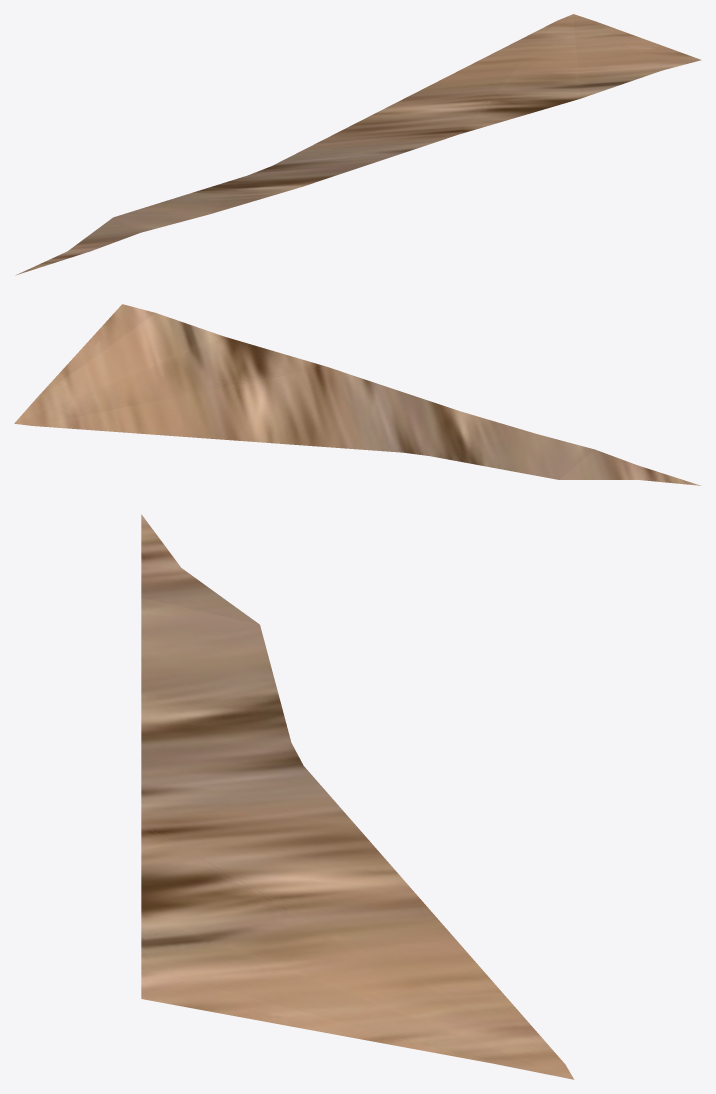
3 views of the same model, one above another, from view 1: azimuth 30°, elevation 25°; view 2: azimuth 150°, elevation 25°; view 3: azimuth 270°, elevation 25° (orthographic). The views are drawn at different scales.
Bounding box in the file's own units: 1.82 × 0.1214 × 0.589.
1 material, 1 textured.
